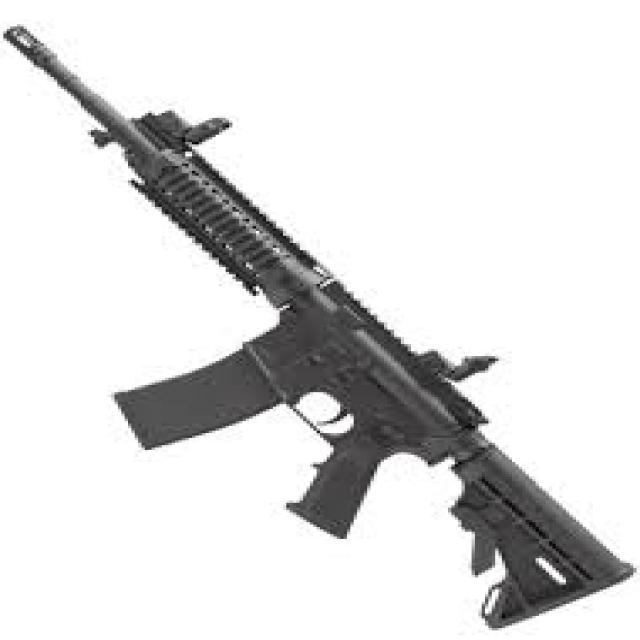rifle: (1, 19, 640, 635)
